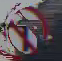Don't turn left: (6, 6, 49, 58)
